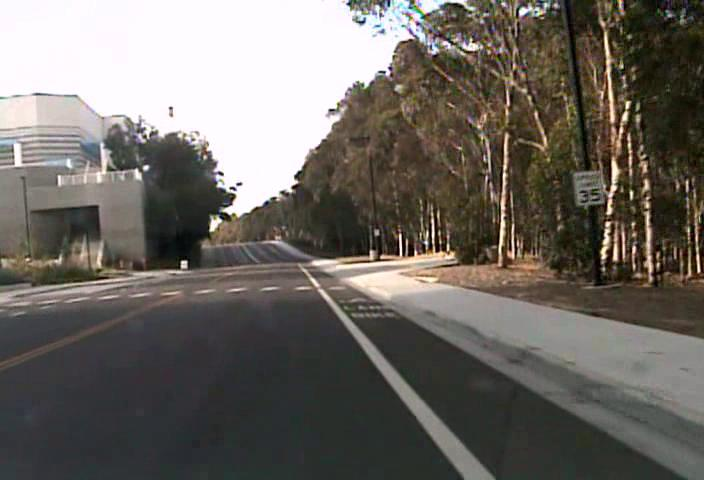speedLimit35: (572, 168, 605, 206)
